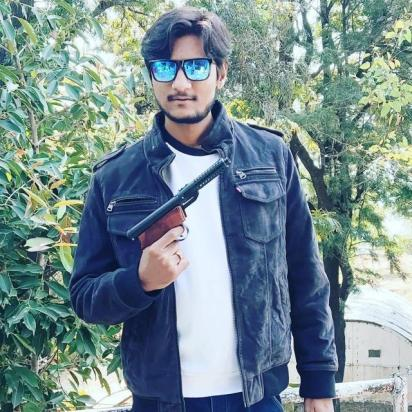Gun: (124, 155, 234, 272)
